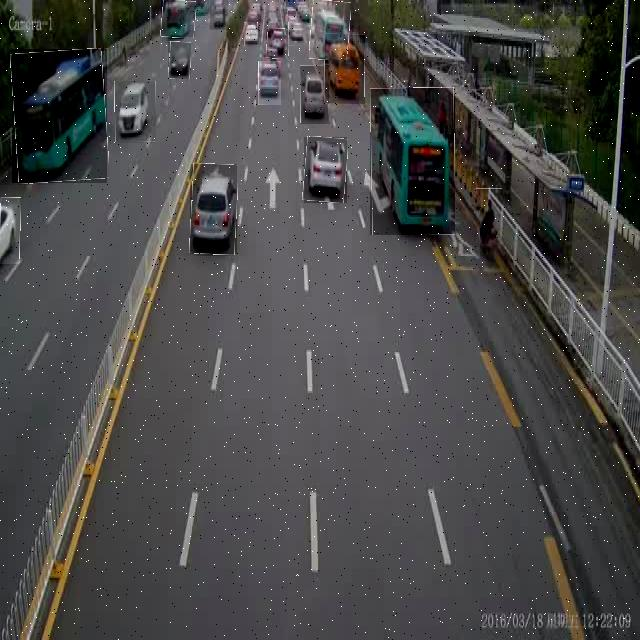Bus: (12, 49, 107, 183), (370, 88, 455, 235), (325, 34, 365, 104), (309, 0, 350, 59), (161, 0, 195, 37)
Car: (190, 164, 237, 254), (304, 137, 347, 203), (115, 82, 156, 144), (300, 65, 329, 124), (0, 197, 20, 264), (258, 61, 281, 105), (168, 42, 191, 79), (267, 29, 289, 59), (210, 0, 228, 30), (288, 22, 307, 46), (244, 22, 258, 46)
Motorcycle: (476, 188, 502, 271)
